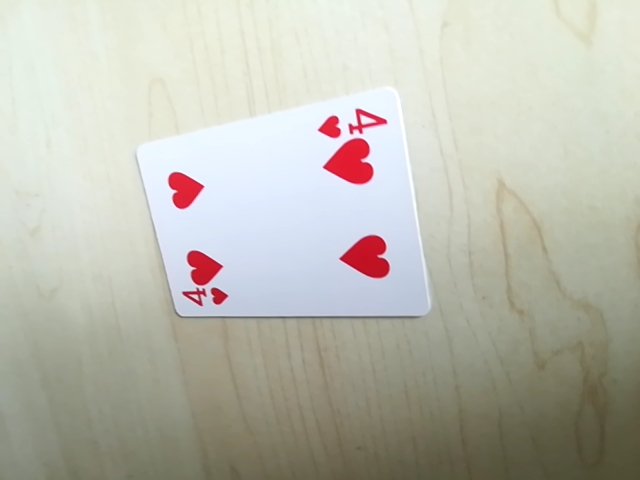hx 4: (317, 98, 392, 139), (173, 281, 232, 313)
